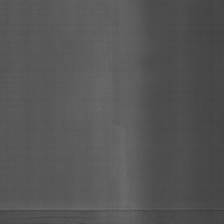welding_line: (0, 201, 224, 217)
